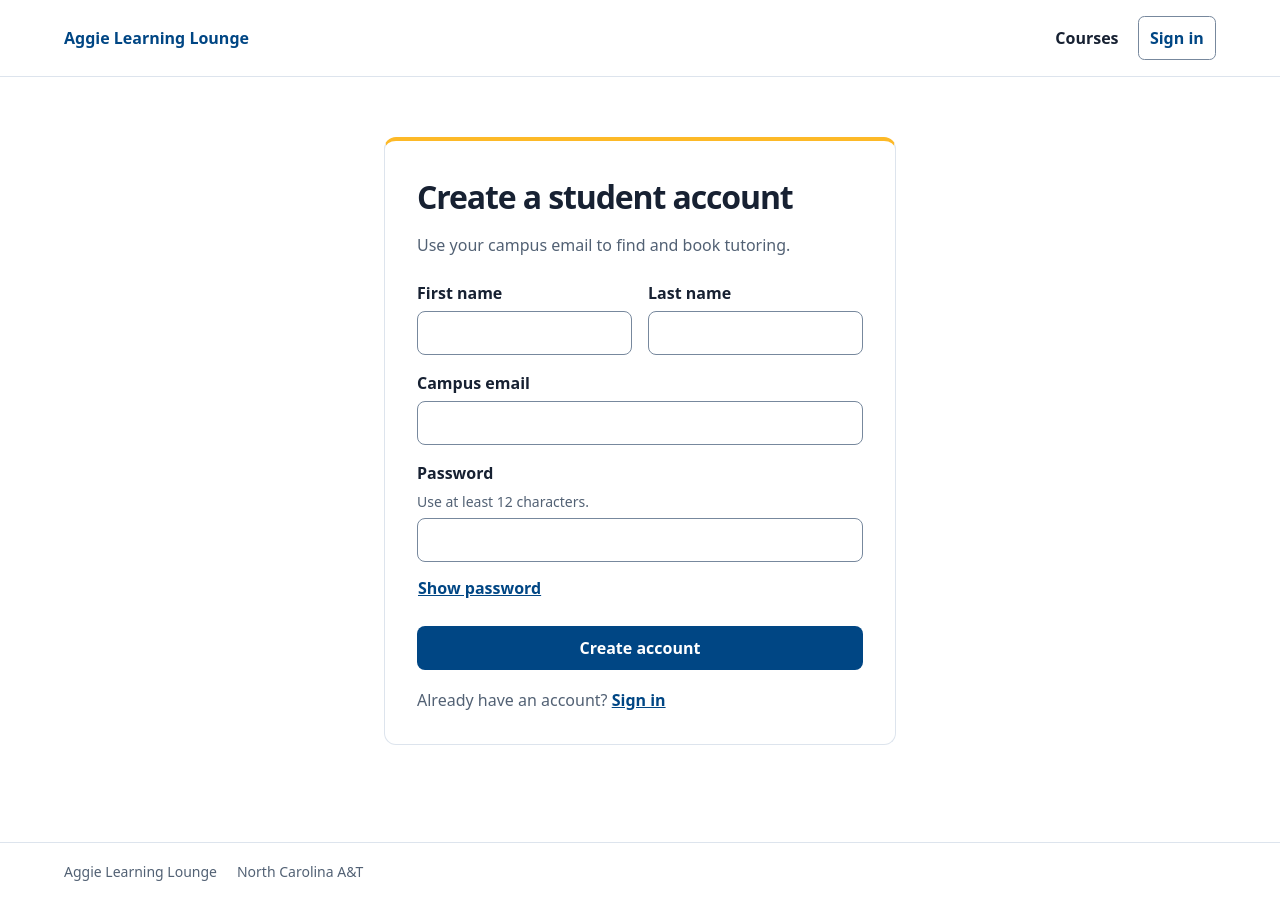
Phase 2 — Account and session flows › submits student registration and shows the verification step
This screenshot has width=1280, height=900.
In the field labelled "First name": (524, 333) [417, 311, 632, 355], type "Avery"
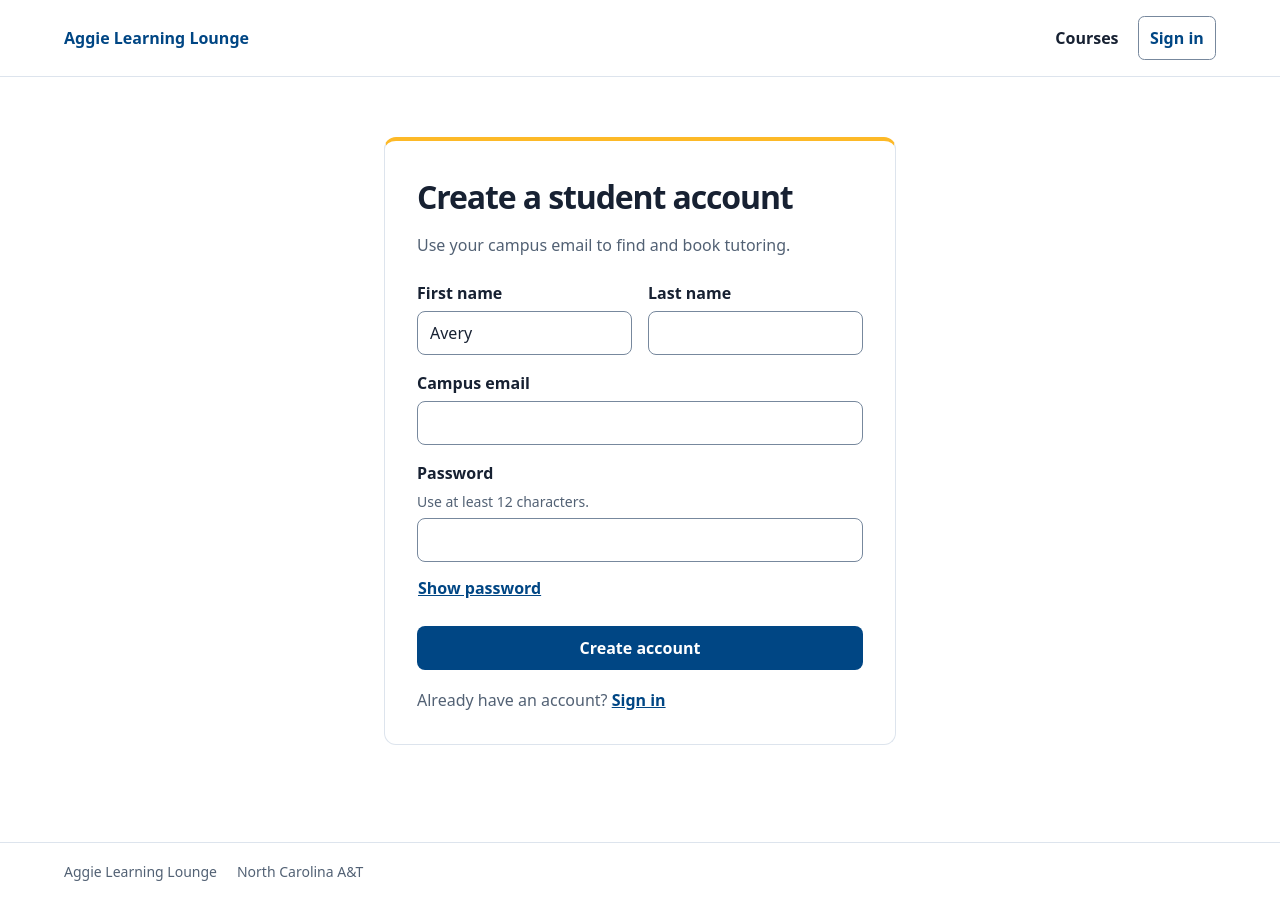
In the field labelled "Last name": (756, 333) [648, 311, 863, 355], type "Reed"
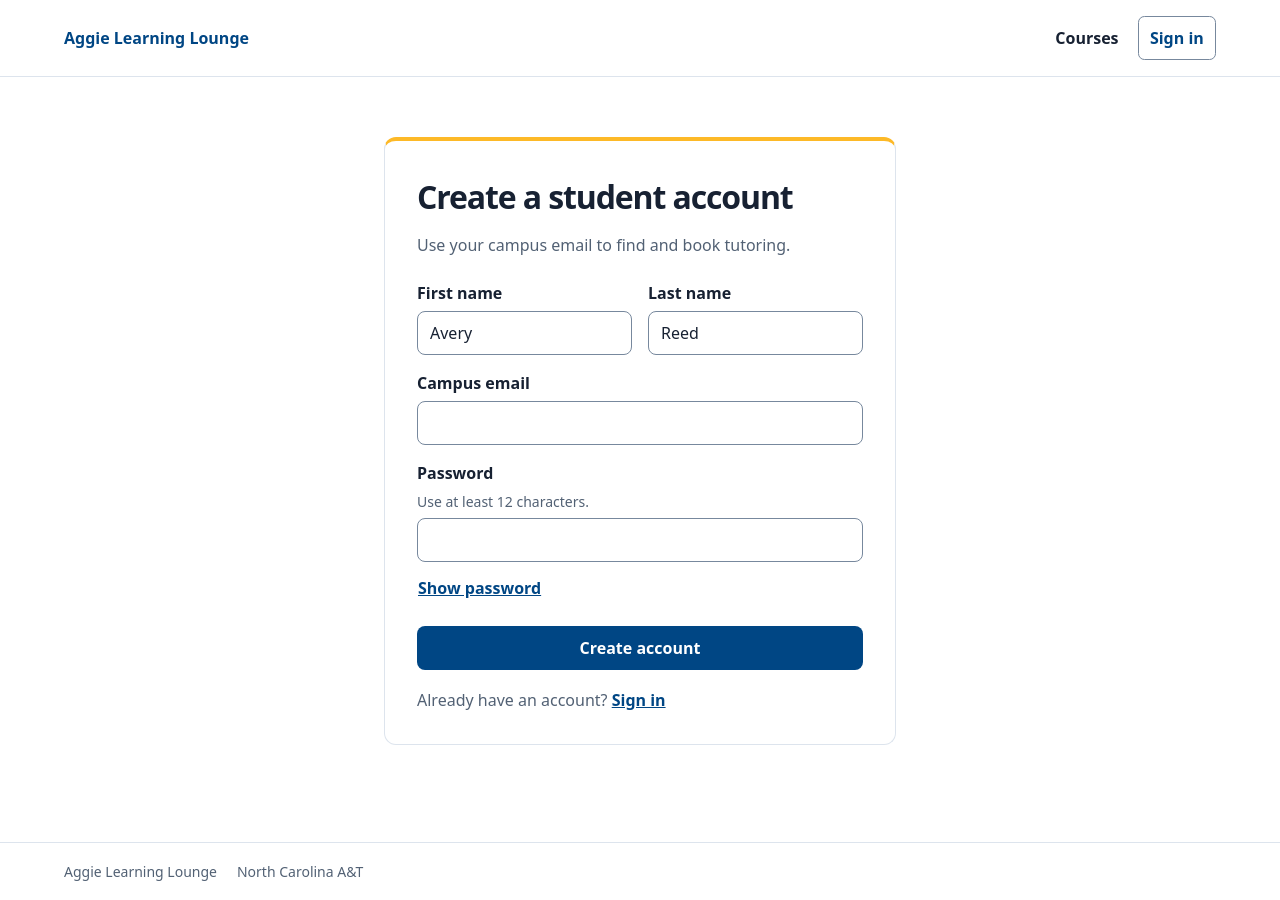
In the field labelled "Campus email": (640, 423) [417, 401, 863, 445], type "student@example.test"
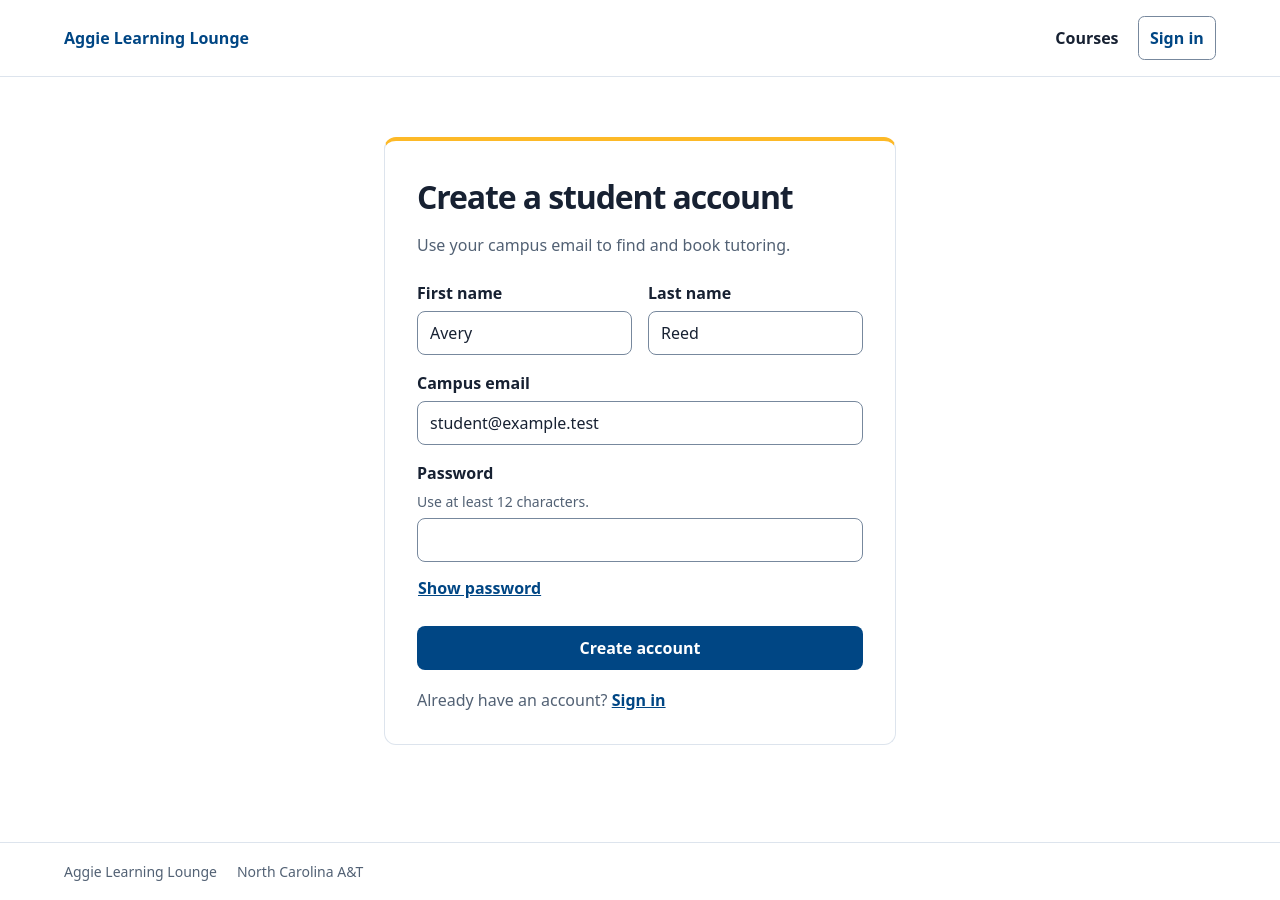
In the password field labelled "Password": (640, 540) [417, 518, 863, 562], type "sample-password"
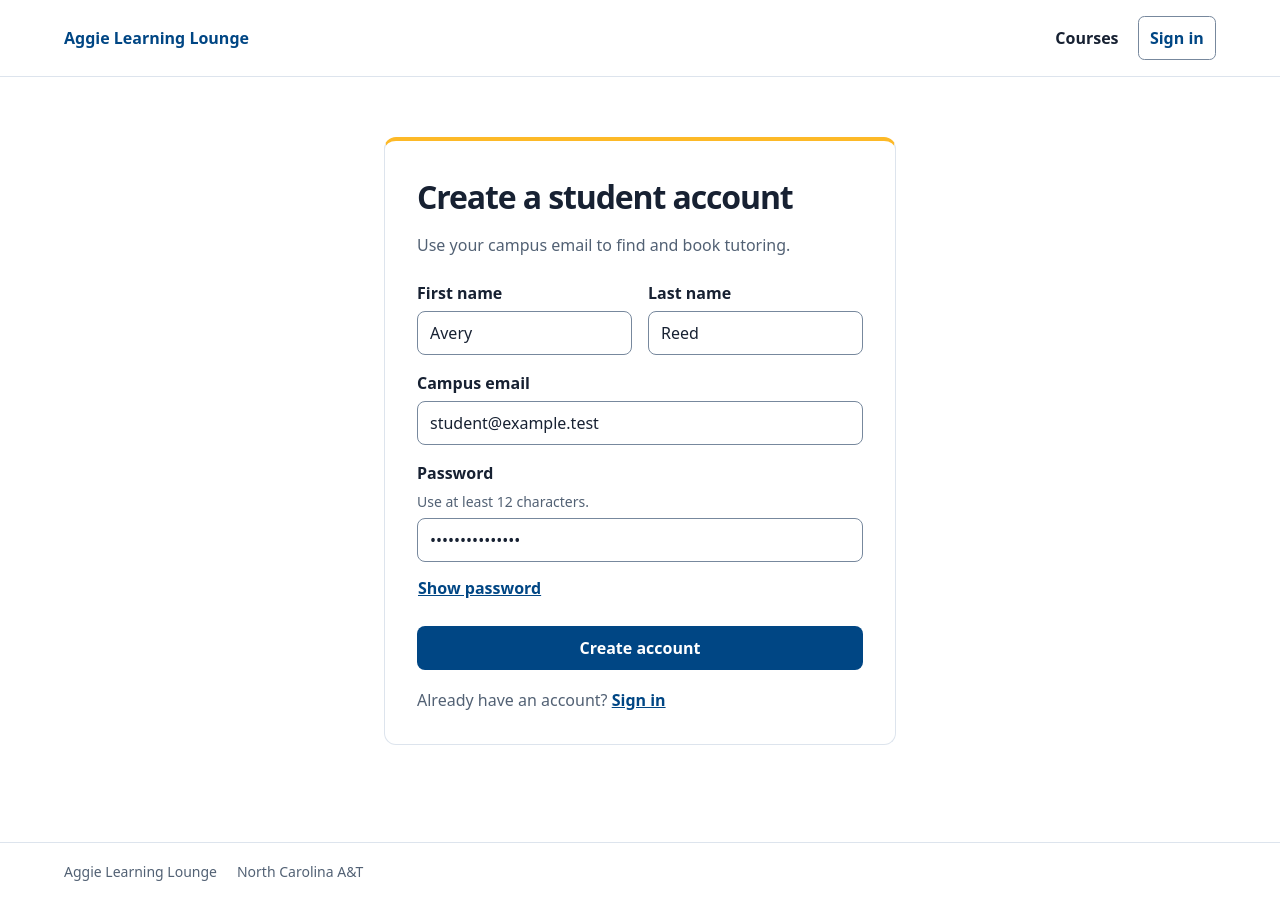
Click the button "Create account": (640, 648) [417, 626, 863, 670]
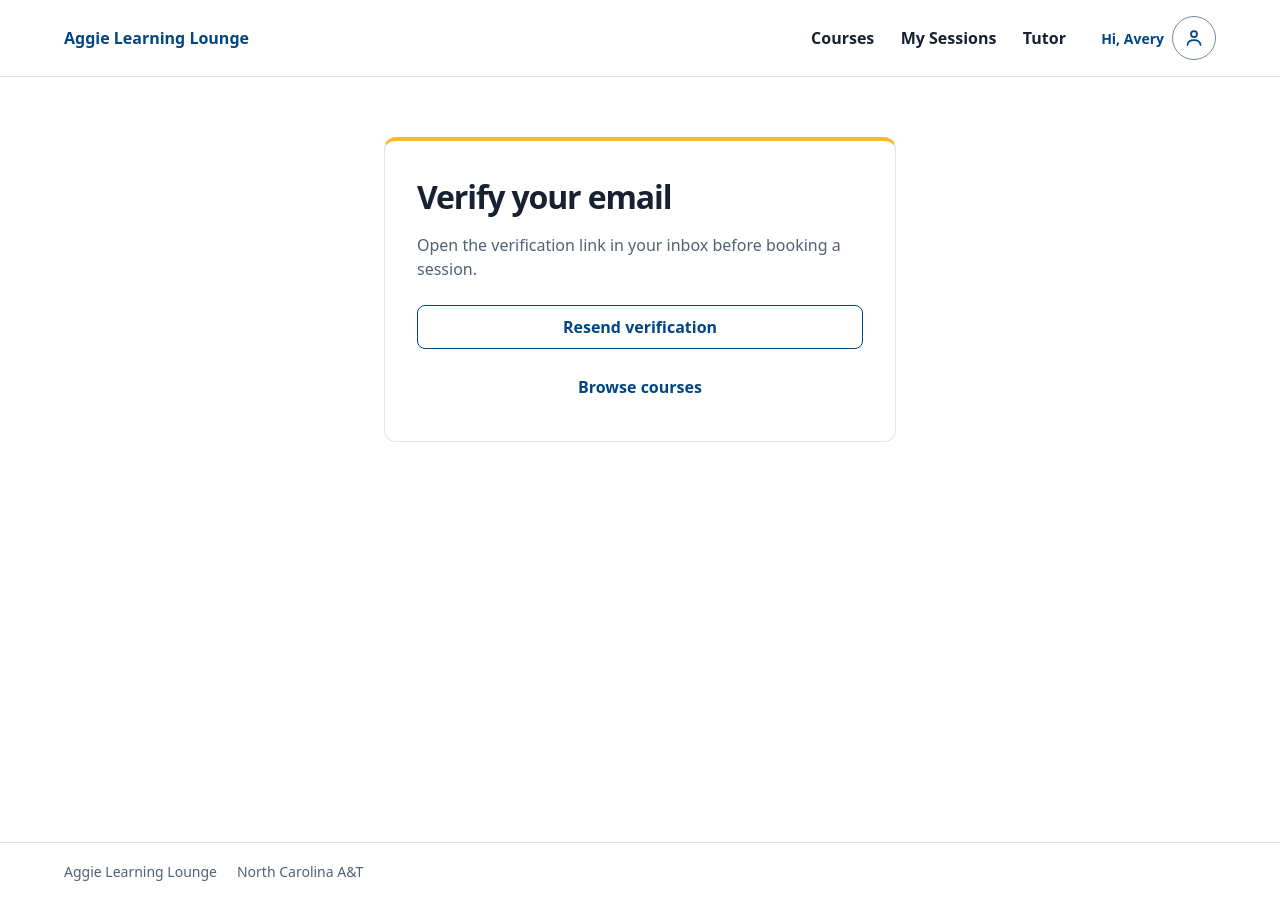
Expected: the heading "Verify your email" is shown, [417, 175, 671, 218]
Expected: the button "Resend verification" is shown, [417, 305, 863, 349]
